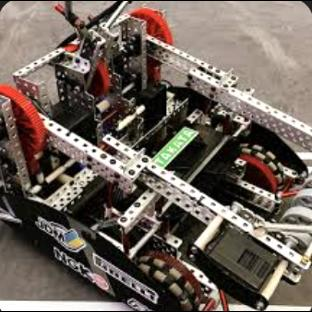Robot: (0, 1, 311, 311)
